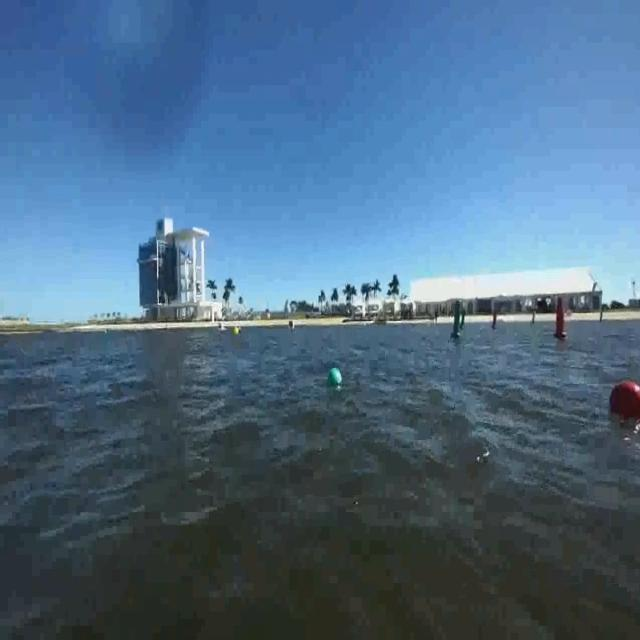green-buoy: (328, 369, 340, 387)
green-column-buoy: (451, 303, 464, 340), (492, 309, 498, 329)
red-buoy: (610, 381, 640, 421)
red-column-buoy: (554, 296, 569, 339)
